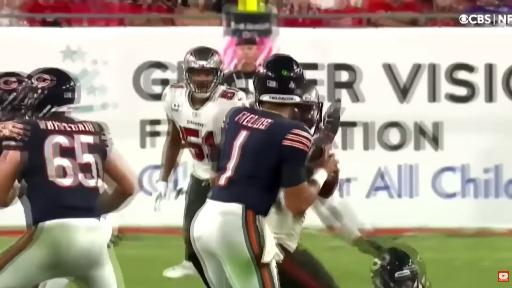Helmet: (254, 54, 322, 133), (254, 54, 306, 104), (28, 68, 79, 117), (372, 245, 429, 287), (184, 47, 223, 98), (291, 85, 323, 134), (0, 72, 29, 121)
Jersey: (2, 117, 111, 225), (211, 107, 311, 216), (163, 84, 247, 179), (266, 192, 304, 251)
Player: (191, 54, 337, 287), (0, 68, 136, 287), (158, 47, 247, 278), (267, 198, 337, 287), (372, 244, 431, 287), (0, 72, 30, 121), (0, 72, 28, 121)
